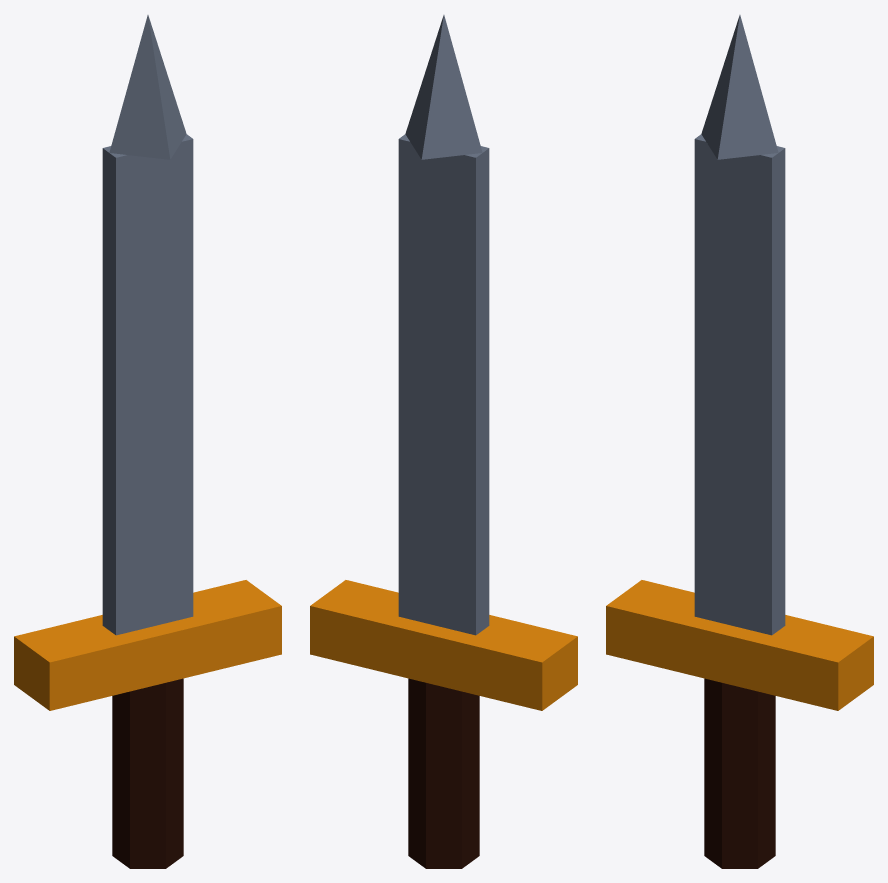
File: dagger.obj
The picture shows the model from 3 angles, left to right: view 1: azimuth 30°, elevation 25°; view 2: azimuth 150°, elevation 25°; view 3: azimuth 330°, elevation 25°; orthographic projection.
Visible parts, largest first — view 1: dagger; view 2: dagger; view 3: dagger.
Part boxes in pixels (<box>): dagger: <box>14,15,281,868</box>; dagger: <box>310,15,577,868</box>; dagger: <box>606,15,873,868</box>.
Bounding box in the file's own units: 0.15 × 0.52 × 0.05.
